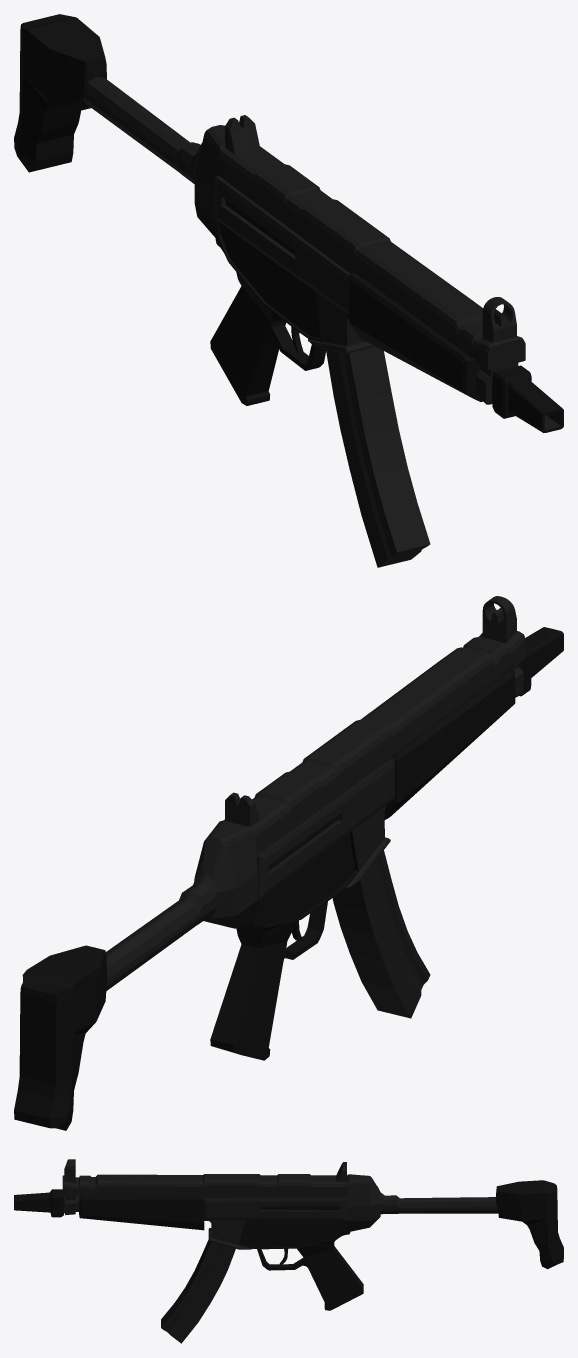
3 renders of one model, top to bottom at view 1: azimuth 30°, elevation 25°; view 2: azimuth 150°, elevation 25°; view 3: azimuth 270°, elevation 25°, orthographic. The views are drawn at different scales.
Parts seen in each view (by area): view 1: Mp5, Mp5_Mag; view 2: Mp5, Mp5_Mag; view 3: Mp5, Mp5_Mag.
Part boxes in pixels (x1=…): Mp5: x1=14, y1=14, x2=563, y2=432; Mp5_Mag: x1=326, y1=346, x2=430, y2=567; Mp5: x1=14, y1=596, x2=563, y2=1130; Mp5_Mag: x1=332, y1=850, x2=430, y2=1018; Mp5: x1=14, y1=1159, x2=563, y2=1310; Mp5_Mag: x1=161, y1=1240, x2=235, y2=1343.
Size of the model in its own units: 27.76 by 171 by 475.
